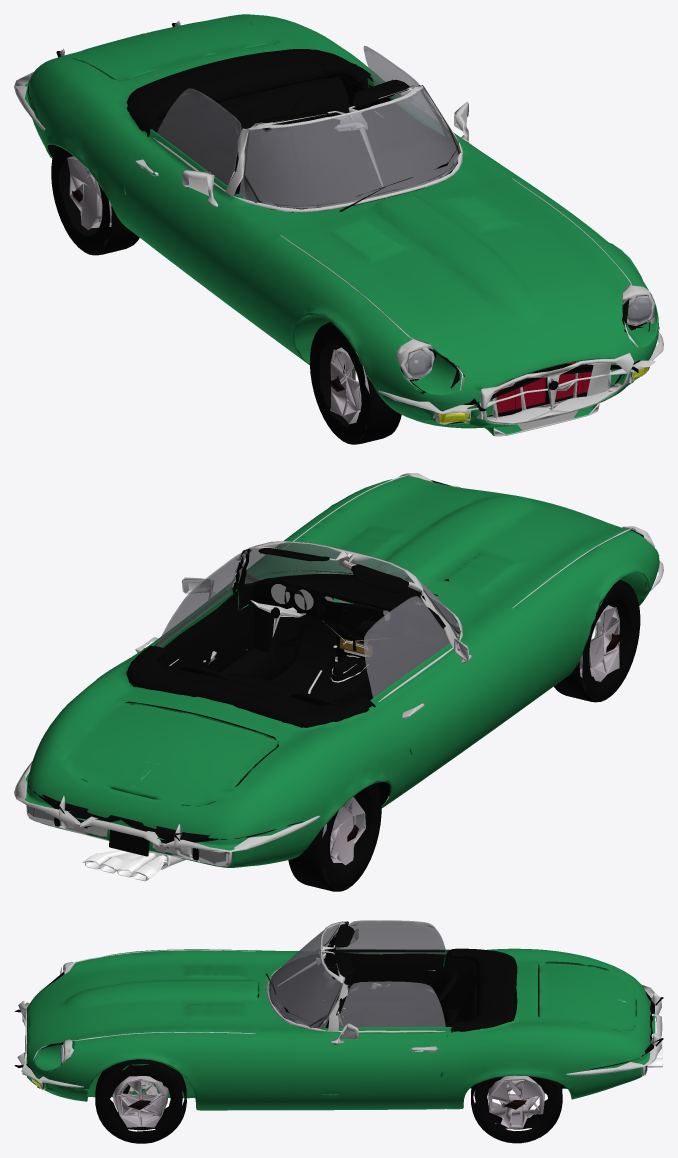
Rendered from etype.glb.
The picture shows the model from 3 angles, top to bottom: view 1: azimuth 30°, elevation 25°; view 2: azimuth 150°, elevation 25°; view 3: azimuth 270°, elevation 25°; orthographic projection. The views are drawn at different scales.
Parts seen in each view (by area): view 1: car_q; view 2: car_q; view 3: car_q.
Boxes of the visible parts, x1,y1,x2,y2 form: car_q: (14, 14, 663, 444); car_q: (14, 473, 663, 891); car_q: (14, 920, 663, 1143).
Size of what is drawn, in the model's own units: 2.14 by 1.42 by 5.59.
